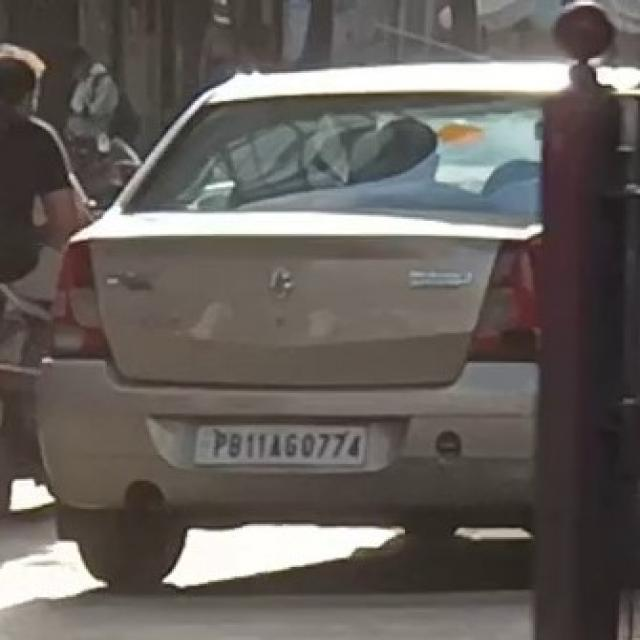Plate: (192, 422, 366, 467)
